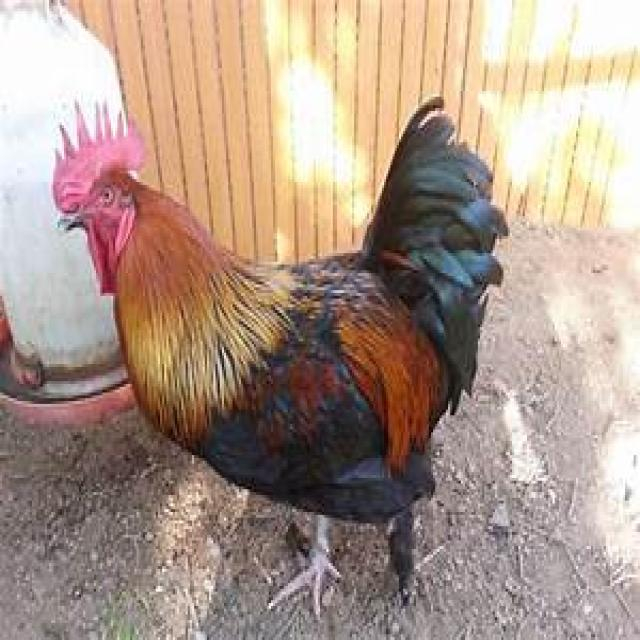animal: (62, 92, 480, 610)
